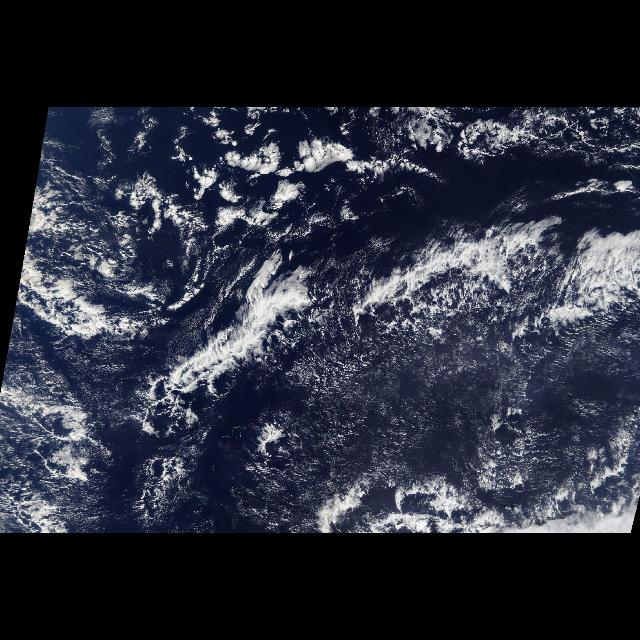Fish: (160, 212, 640, 394)
Flower: (152, 107, 456, 195)
Sugar: (352, 366, 616, 470)
